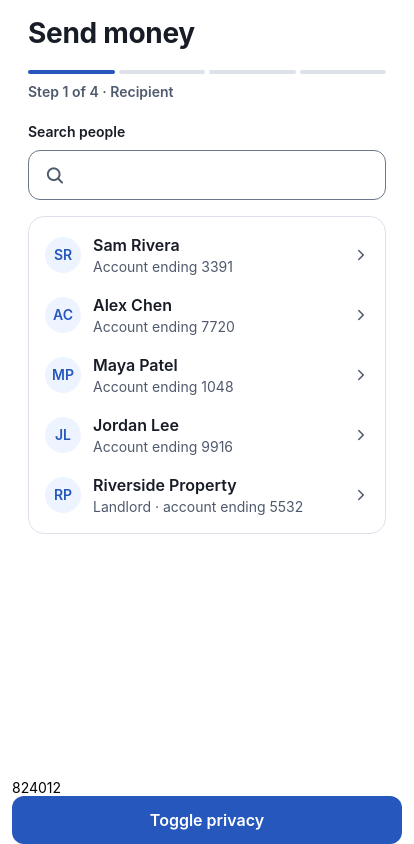
Scenario: Send money › does not scold an empty amount until the first attempt
The image size is (414, 844).
Click the button with aria-label "Sam Rivera, Account ending 3391".
click(207, 255)  # box [37, 225, 377, 285]
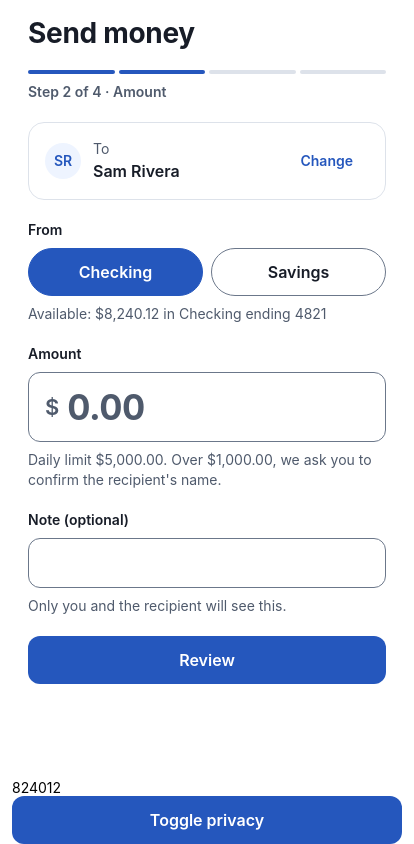
expect the text "Enter an amount greater than $0." is not shown: met
Click the button "Review".
click(207, 660)  # box [28, 636, 386, 684]
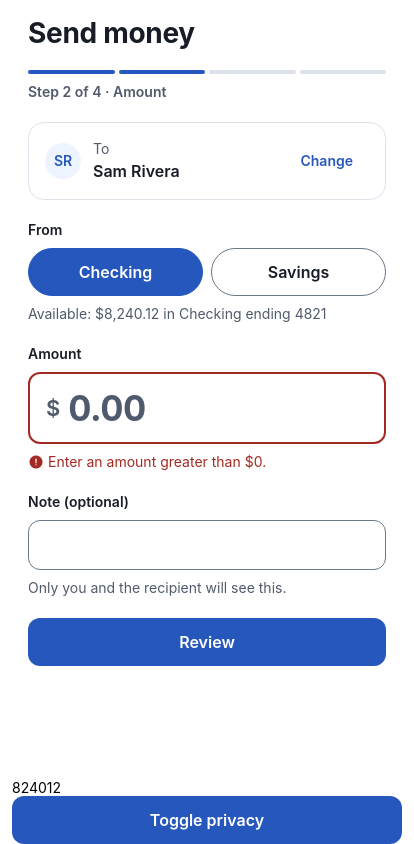
expect the text "Enter an amount greater than $0." is shown: met, box [48, 453, 266, 470]
